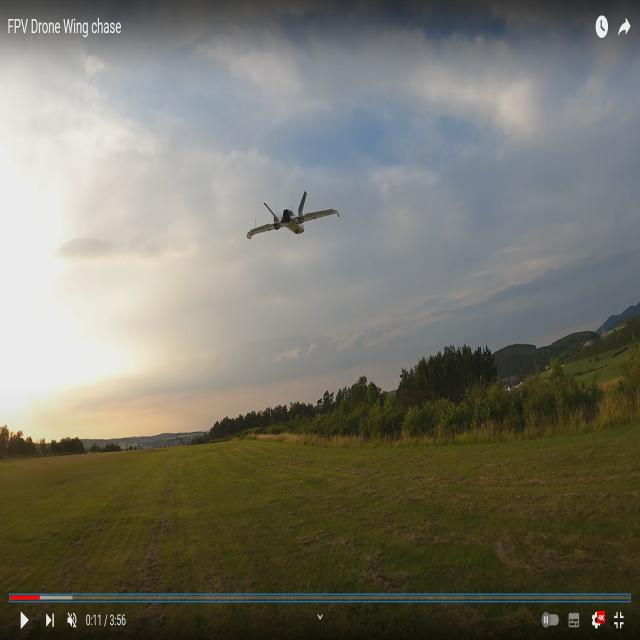iha: (274, 190, 310, 243)
